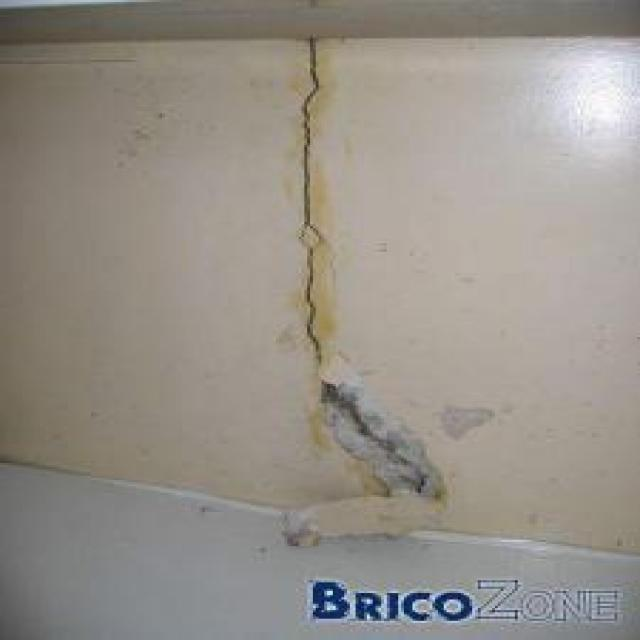crack: (318, 378, 433, 495), (296, 37, 328, 369)
